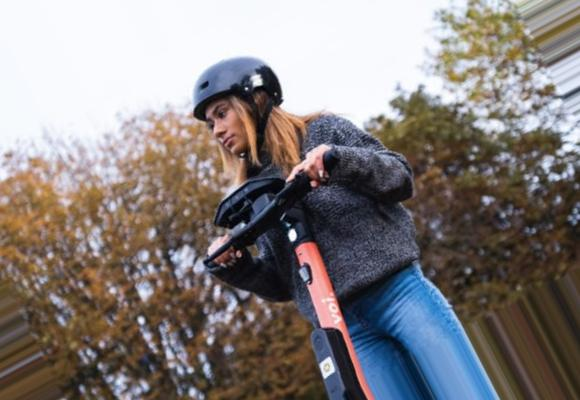with helmet: (190, 56, 284, 155)
